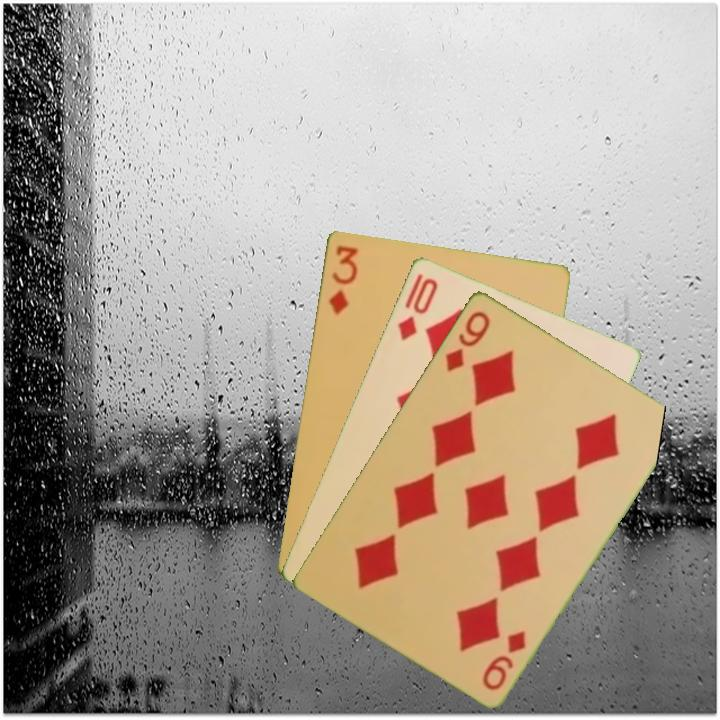10d: (394, 273, 441, 344)
3d: (325, 241, 361, 318)
9d: (441, 306, 493, 375), (478, 626, 529, 693)
